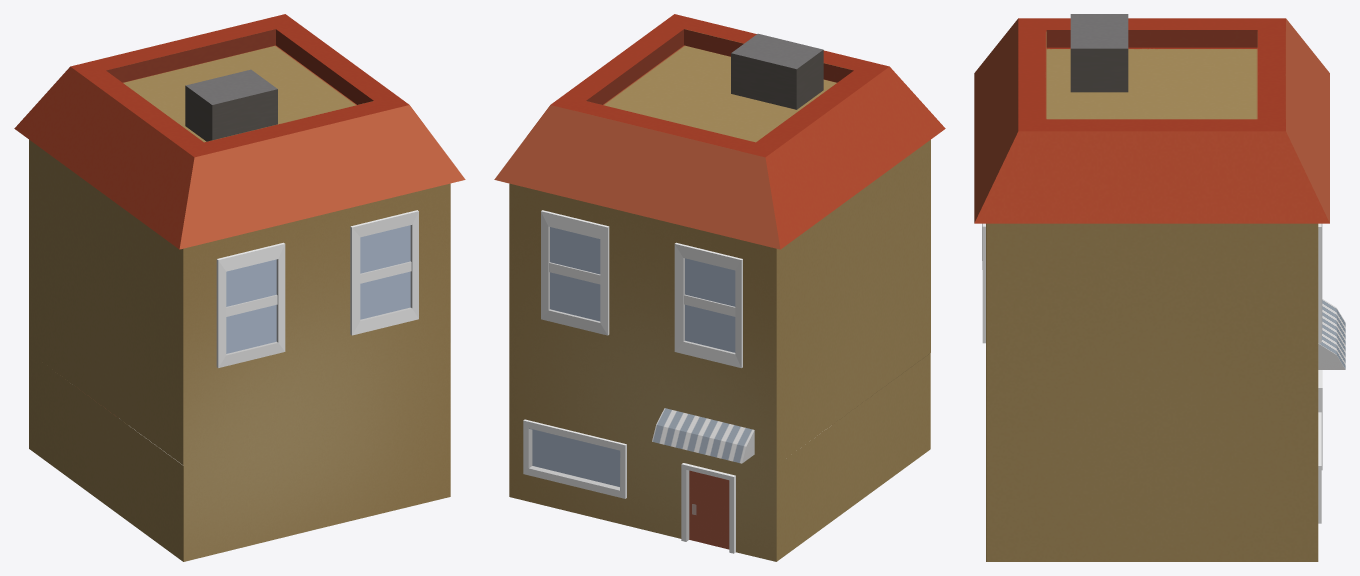
Rendered from House_04_UV_Color.fbx.
3 views of the same model, side by side, from view 1: azimuth 30°, elevation 25°; view 2: azimuth 150°, elevation 25°; view 3: azimuth 270°, elevation 25° (orthographic). The views are drawn at different scales.
Visible parts, largest first — view 1: House_04_UV_Color; view 2: House_04_UV_Color; view 3: House_04_UV_Color.
Boxes of the visible parts, bbox=[...] form: House_04_UV_Color: bbox=[14, 14, 465, 561]; House_04_UV_Color: bbox=[494, 14, 945, 561]; House_04_UV_Color: bbox=[974, 14, 1345, 561].
Bounding box in the file's own units: 1181 × 1623 × 1233.
